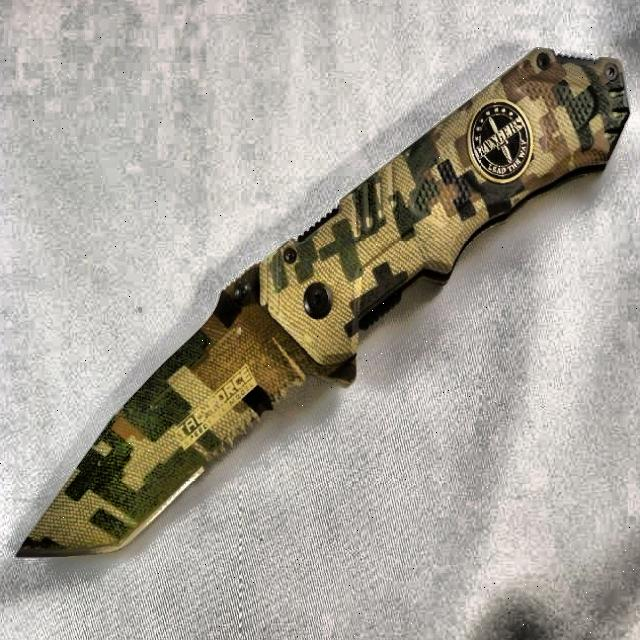knife: (16, 47, 630, 561)
